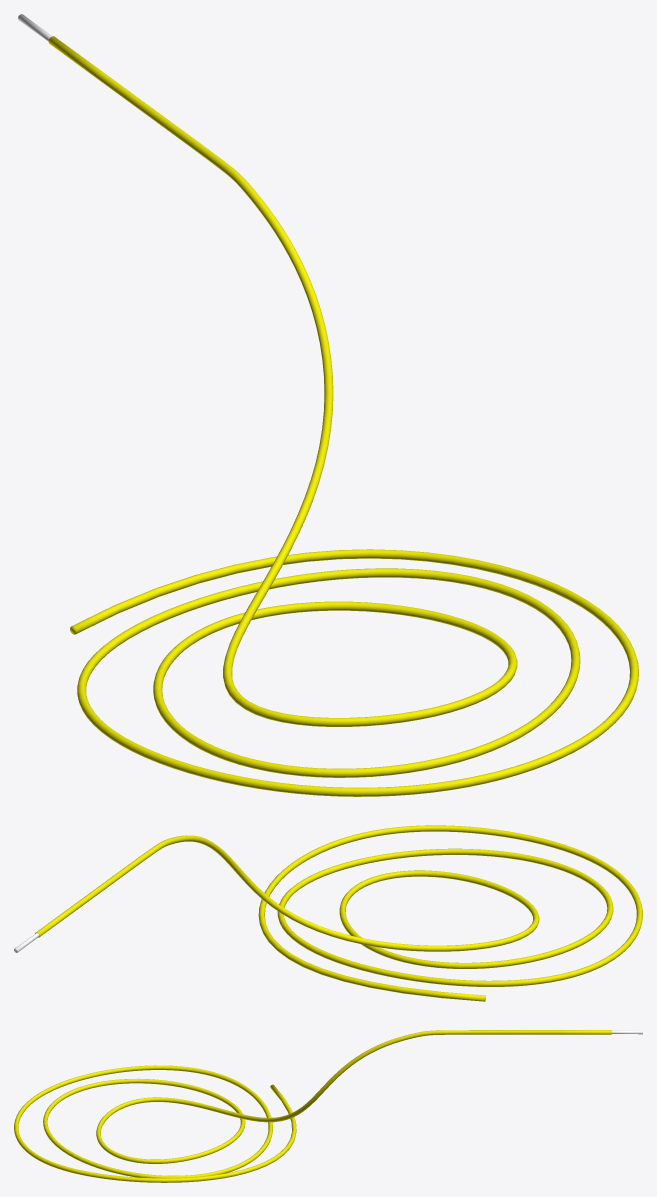
Rendered from Kabel yang sudah terpotong di cleaver.fbx.
3 renders of one model, top to bottom at view 1: azimuth 30°, elevation 25°; view 2: azimuth 150°, elevation 25°; view 3: azimuth 270°, elevation 25°, orthographic. The views are drawn at different scales.
Parts seen in each view (by area): view 1: NurbsPath.001; view 2: NurbsPath.001; view 3: NurbsPath.001.
Part boxes in pixels (left/top/right/bottom): NurbsPath.001: left=48, top=36, right=638, bottom=796; NurbsPath.001: left=35, top=825, right=642, bottom=1001; NurbsPath.001: left=14, top=1030, right=611, bottom=1182.
Size of the model in its own units: 7.77 by 4.14 by 17.35.
Materials: 2 (2 with a texture image).
